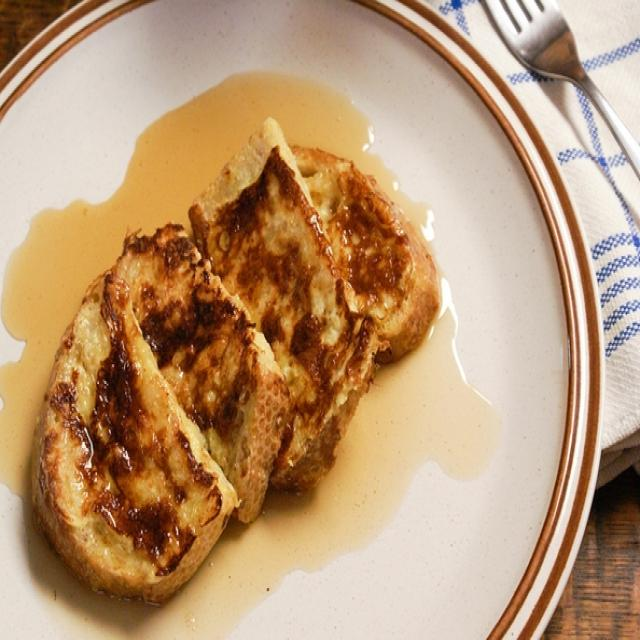面包点心: (22, 93, 475, 616)
